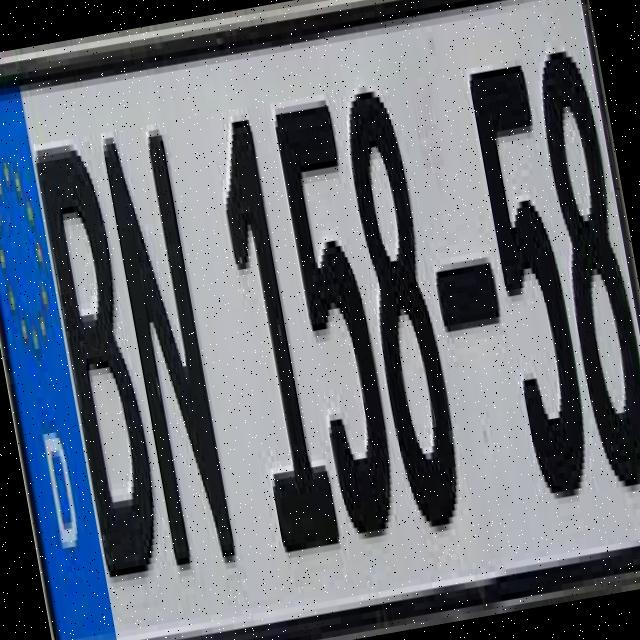Allemagne: (0, 69, 115, 640)
EU: (0, 0, 640, 640)
